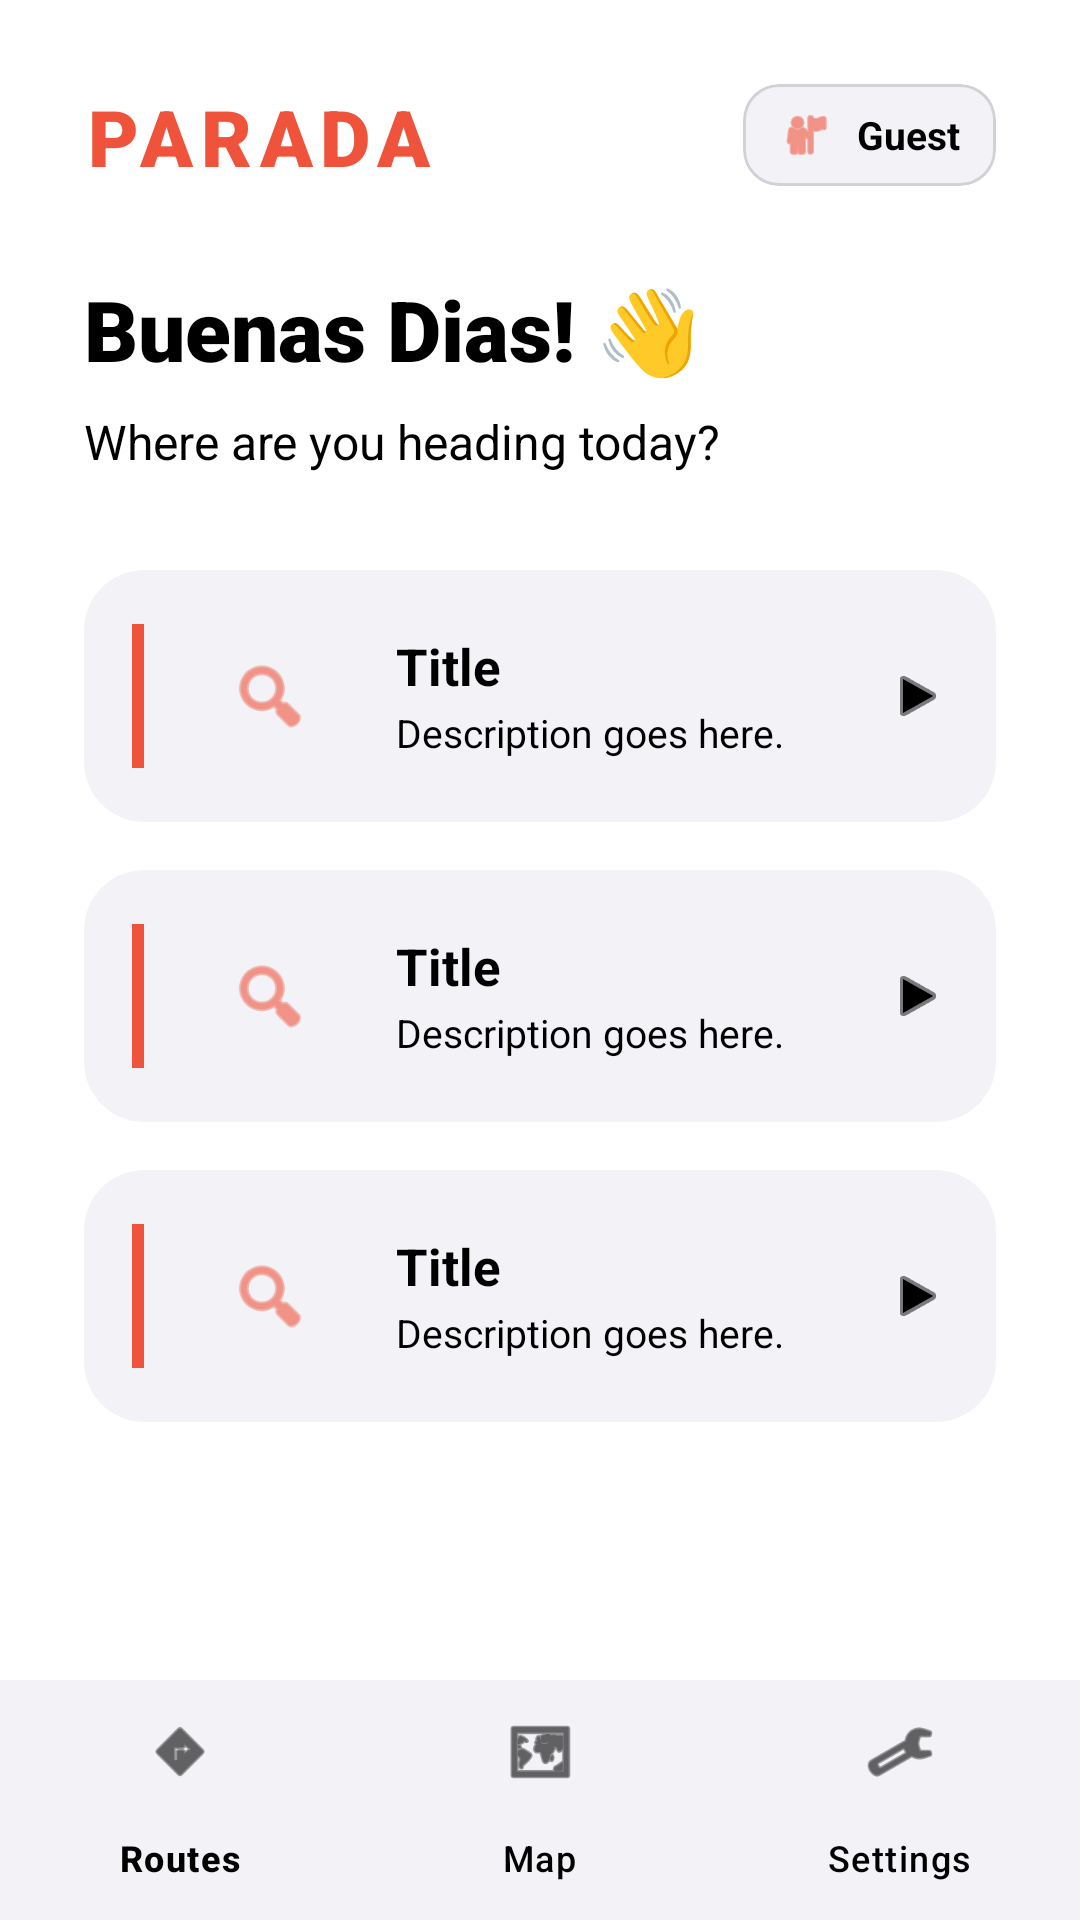

Locate icon controls on the screen. Image size 1080px×1920px, boxes as (x1, y1, x2, y2).
play: (900, 676, 936, 716), (900, 976, 936, 1016), (900, 1276, 936, 1316)
search: (239, 665, 301, 728), (239, 965, 301, 1028), (239, 1265, 301, 1328)
